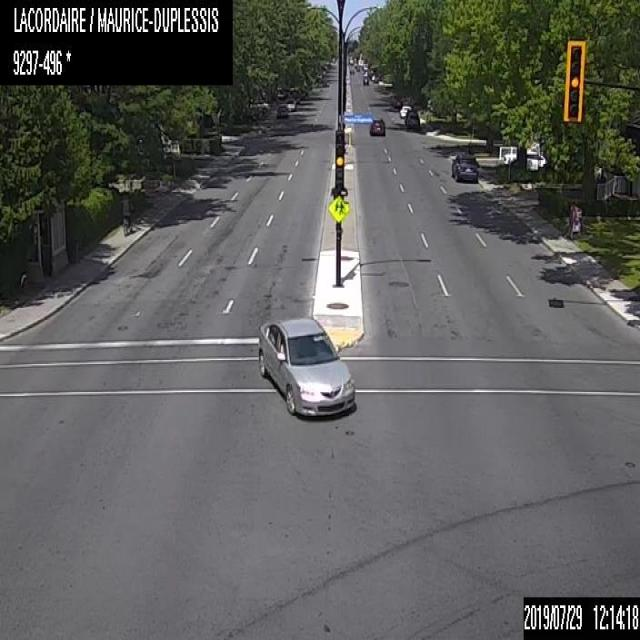cyclist: (120, 200, 133, 235)
vehicle: (254, 312, 356, 419), (448, 152, 479, 183), (504, 147, 546, 169), (368, 115, 386, 137), (404, 108, 420, 128), (398, 104, 412, 117), (276, 103, 288, 117), (283, 97, 296, 109), (362, 76, 368, 83)
